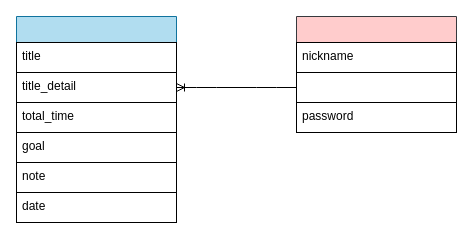
Image size: 473x239. Some labels were removed from this diagram. Each missing label, with the box of its shape:
email: (296, 72, 456, 102)
records: (16, 16, 176, 222)
users: (296, 16, 456, 132)
